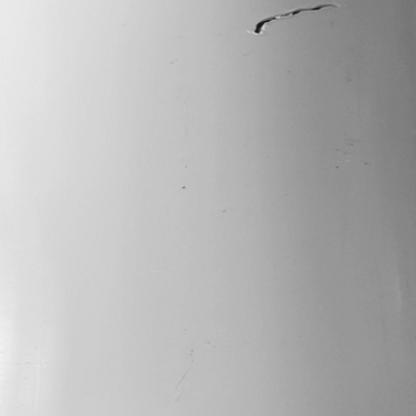fengxi: (248, 2, 341, 38)
